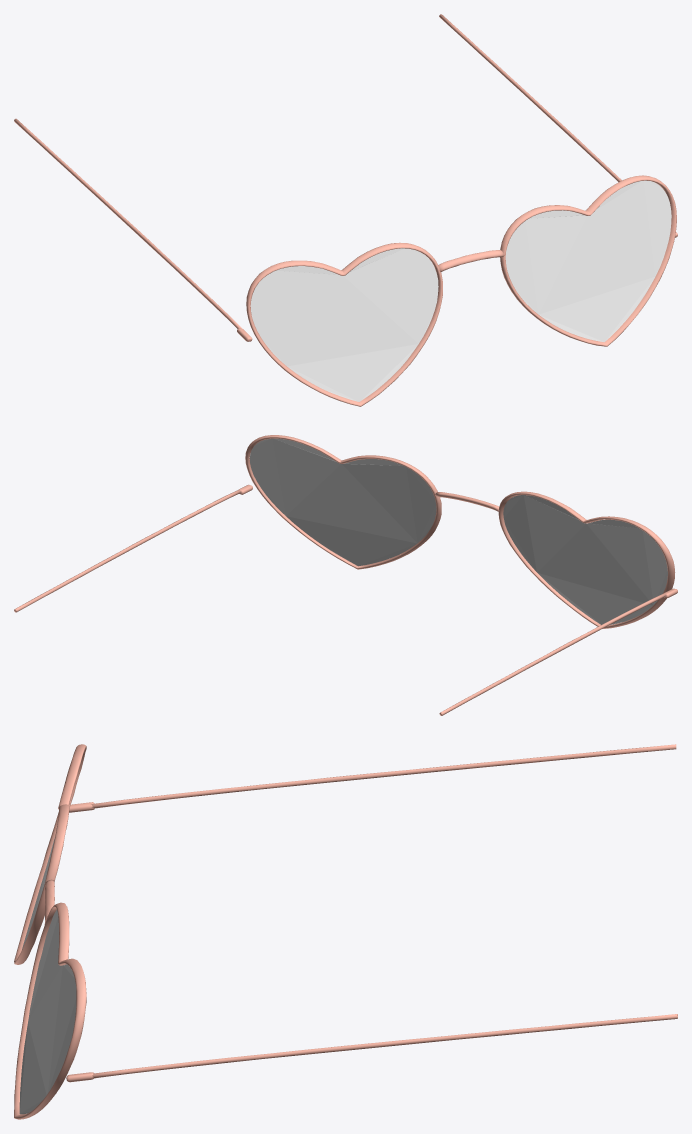
File: glasses-6.glb.temp.glb
3 renders of one model, top to bottom at view 1: azimuth 30°, elevation 25°; view 2: azimuth 150°, elevation 25°; view 3: azimuth 270°, elevation 25°, orthographic. The views are drawn at different scales.
Visible parts, largest first — view 1: Circle.002_3, Object_4, Object_12; view 2: Circle.002_3, Object_4, Object_12; view 3: Circle.002_3, Object_4, Object_12.
Part boxes in pixels (<box>): Circle.002_3: <box>250,180,671,401</box>; Object_4: <box>246,175,676,406</box>; Object_12: <box>14,14,621,328</box>; Circle.002_3: <box>249,438,667,624</box>; Object_4: <box>245,435,675,628</box>; Object_12: <box>14,489,665,715</box>; Circle.002_3: <box>19,838,76,1114</box>; Object_4: <box>14,744,86,1119</box>; Object_12: <box>91,744,677,1078</box>.
Bounding box in the file's own units: 1.93 × 0.5919 × 1.98.
